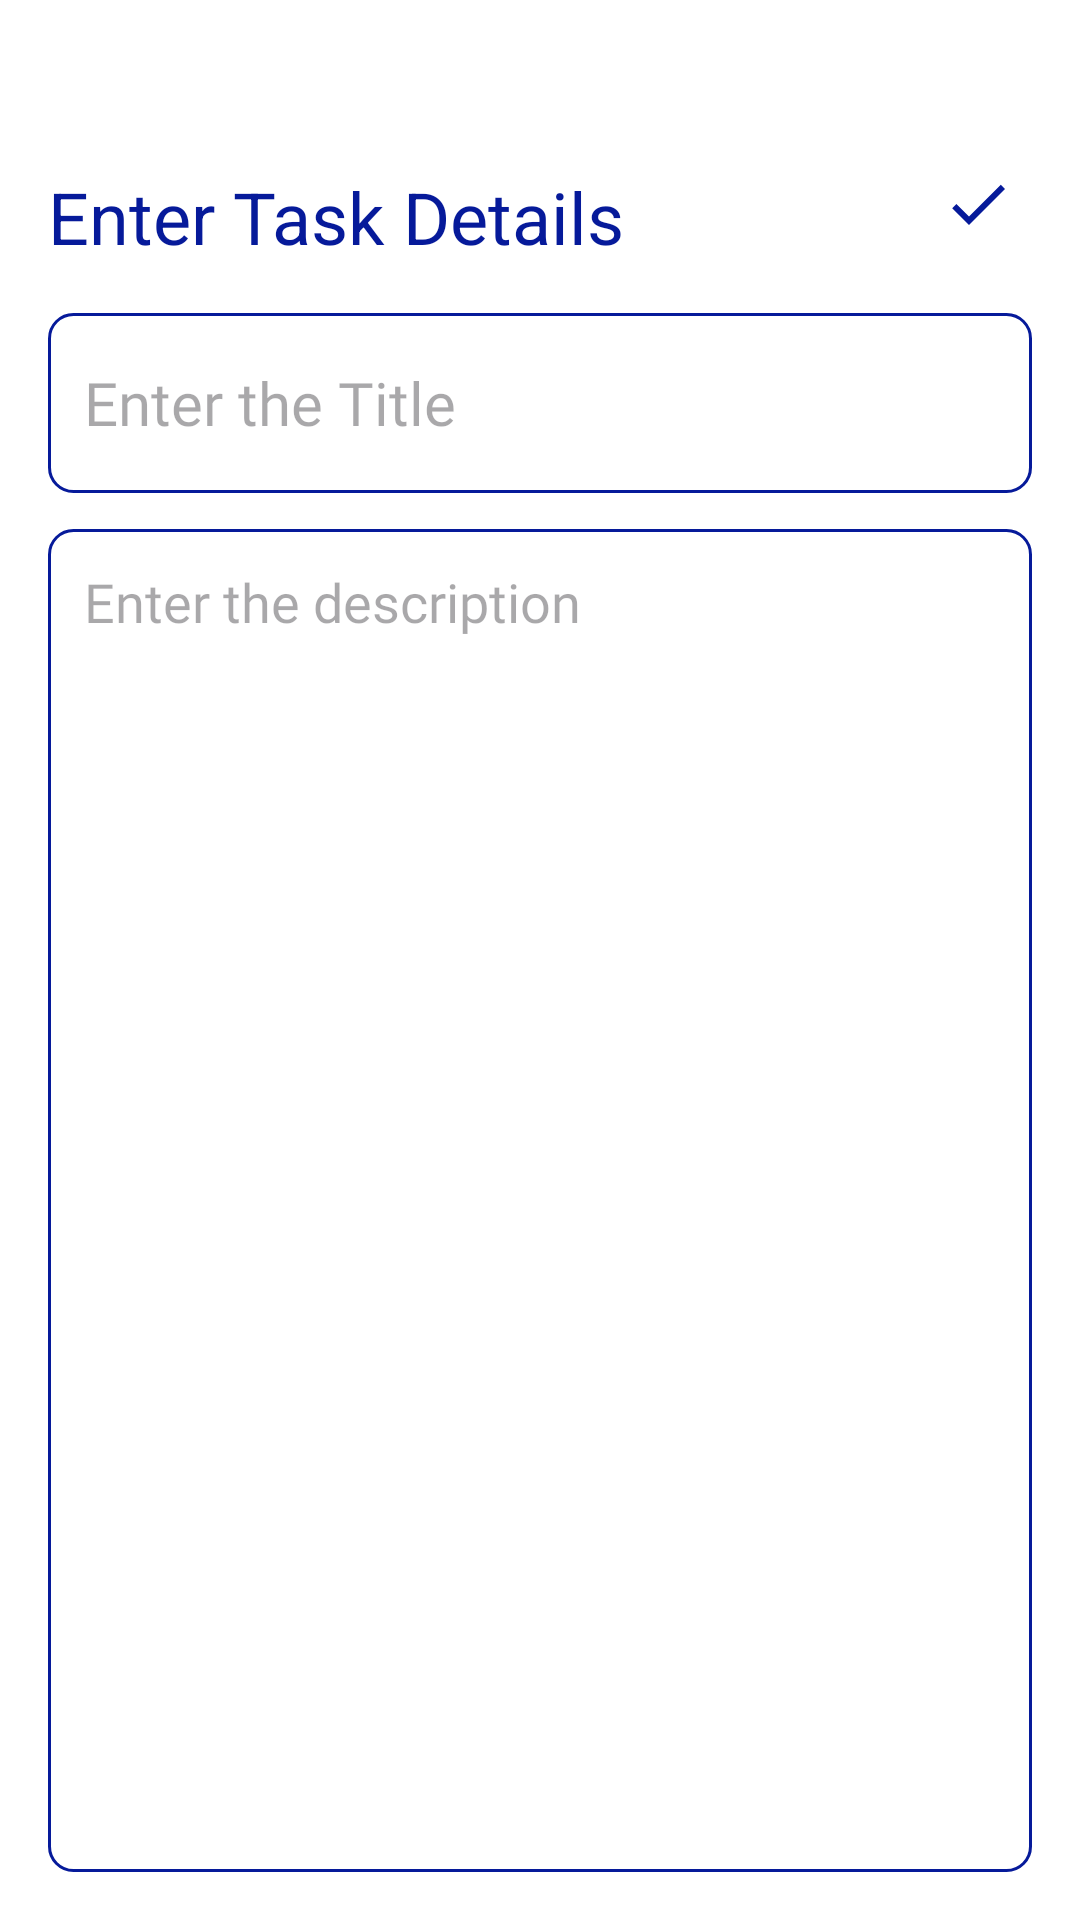

Named icons in this screenshot (1080px×1920px) and their centers, (x=x, y=y):
done: (x=978, y=205)
